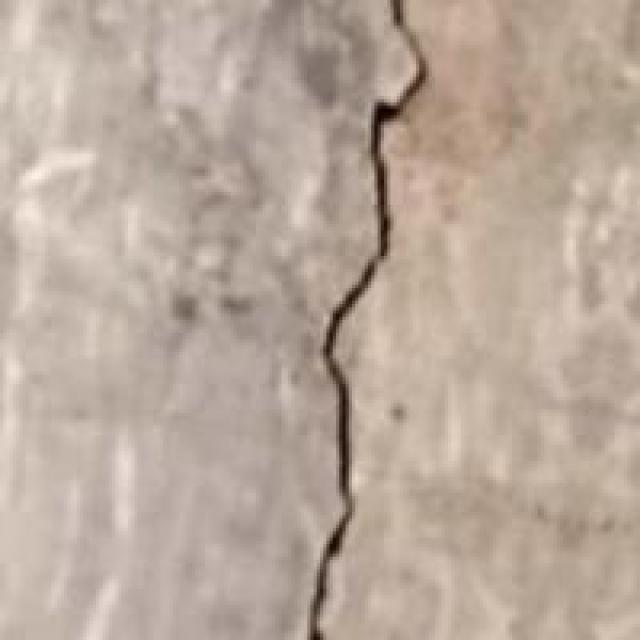crack: (301, 0, 438, 637)
